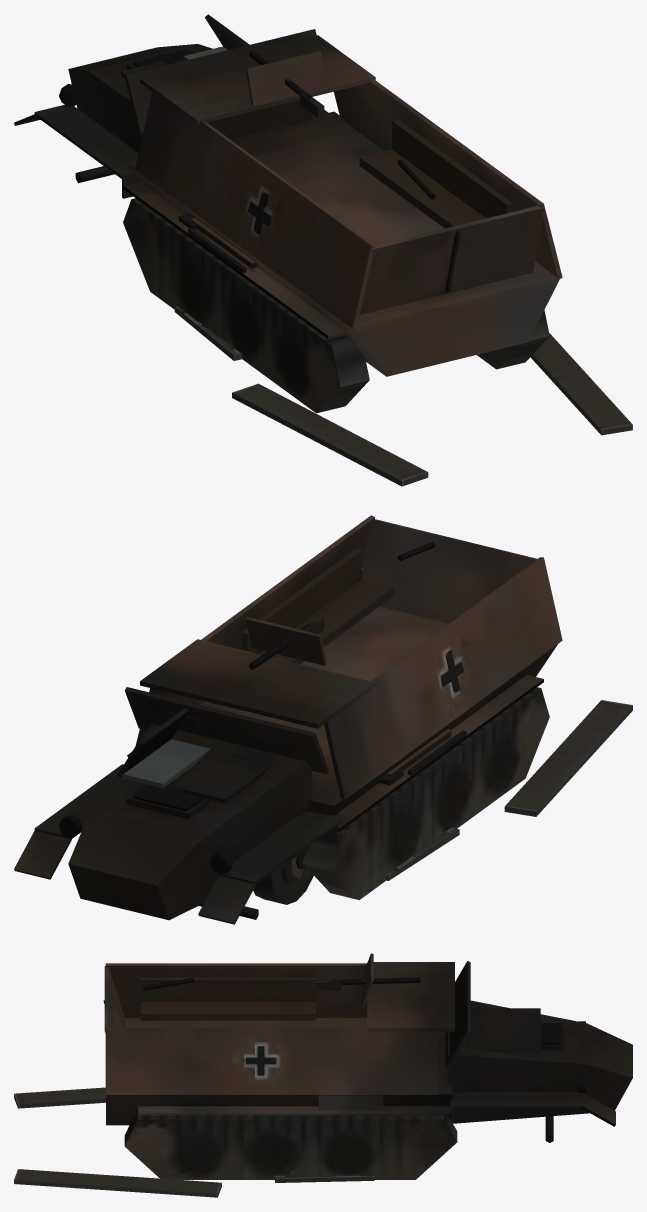
The model's file is sdkfz251.glb.
The picture shows the model from 3 angles, top to bottom: view 1: azimuth 30°, elevation 25°; view 2: azimuth 150°, elevation 25°; view 3: azimuth 270°, elevation 25°; orthographic projection. The views are drawn at different scales.
Parts seen in each view (by area): view 1: hull_ko, hull_trackL, hull_trackR; view 2: hull_ko, hull_trackL, hull_ok, wheels_L_16_ko; view 3: hull_ko, hull_trackR, hull_trackL.
Part boxes in pixels (bbox=[...]): hull_ko: bbox=[14, 14, 562, 413]; hull_trackL: bbox=[174, 306, 428, 486]; hull_trackR: bbox=[530, 333, 632, 435]; hull_ko: bbox=[14, 515, 562, 924]; hull_trackL: bbox=[386, 700, 632, 880]; hull_ok: bbox=[121, 739, 210, 788]; wheels_L_16_ko: bbox=[256, 866, 313, 904]; hull_ko: bbox=[103, 953, 632, 1179]; hull_trackR: bbox=[14, 1169, 374, 1197]; hull_trackL: bbox=[14, 1087, 105, 1108].
Bounding box in the file's own units: 2.91 × 2.5 × 6.7.
Materials: 12 (12 with a texture image).
